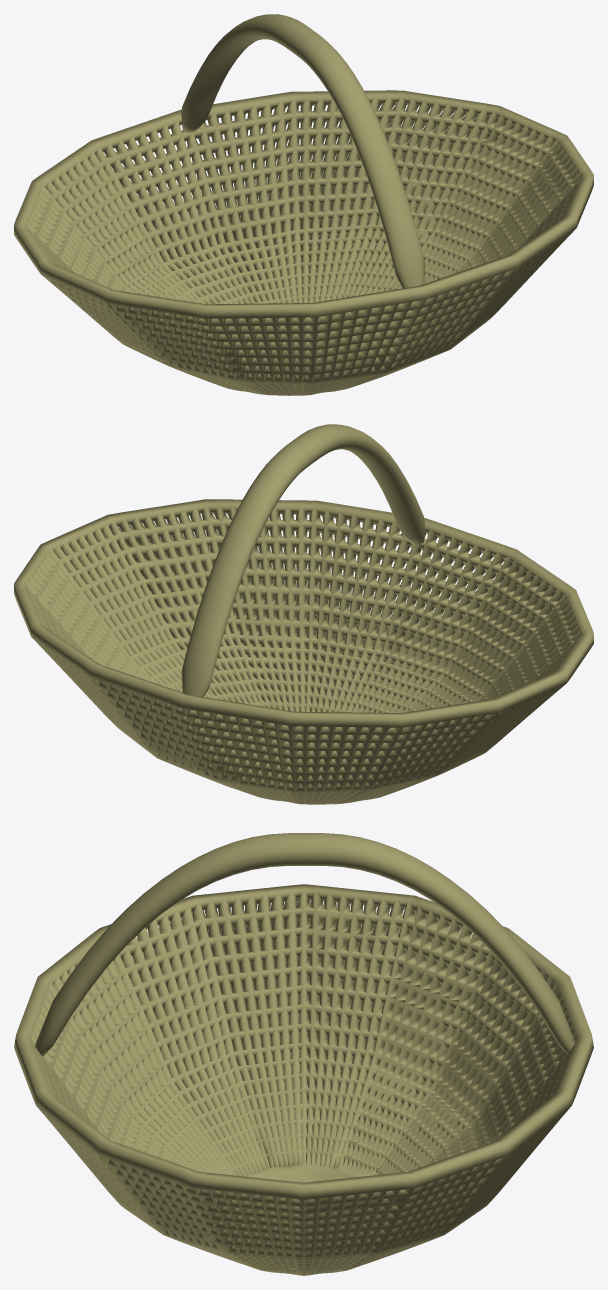
File: cesta.fbx
The picture shows the model from 3 angles, top to bottom: view 1: azimuth 30°, elevation 25°; view 2: azimuth 150°, elevation 25°; view 3: azimuth 270°, elevation 25°; orthographic projection. The views are drawn at different scales.
Parts seen in each view (by area): view 1: Plane.002; view 2: Plane.002; view 3: Plane.002.
Boxes of the visible parts, <box> form: Plane.002: <box>14,14,593,395</box>; Plane.002: <box>14,424,593,804</box>; Plane.002: <box>14,833,593,1275</box>.
Bounding box in the file's own units: 225 × 135 × 182.
